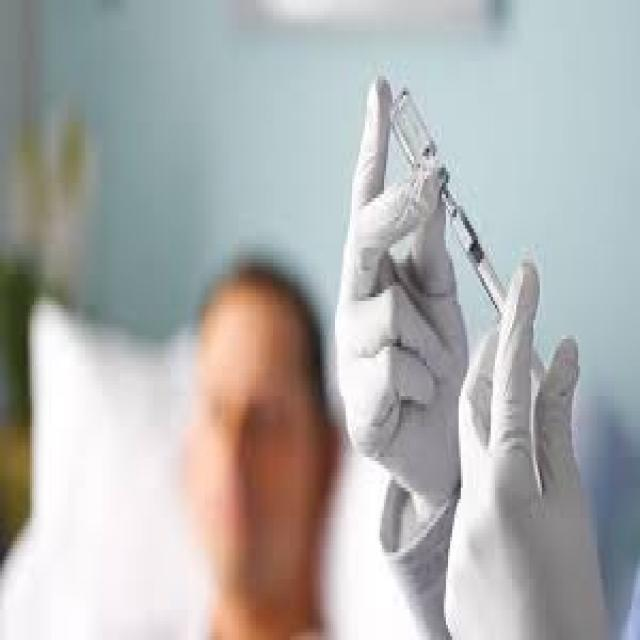syringe: (376, 100, 562, 359)
